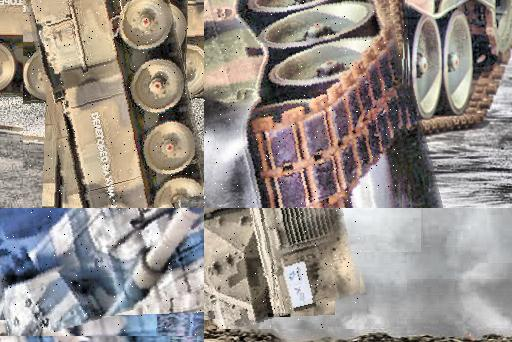tanks: (205, 1, 409, 209), (25, 1, 205, 209), (1, 209, 205, 337), (205, 209, 361, 329)
